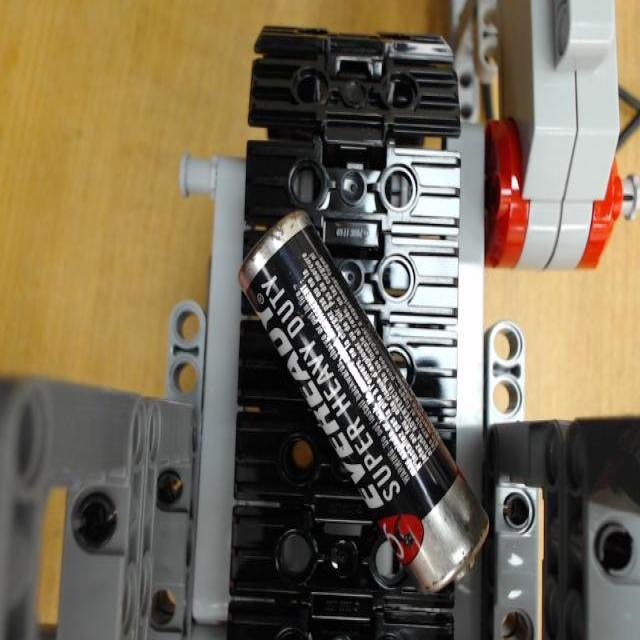AA: (240, 209, 490, 595)
